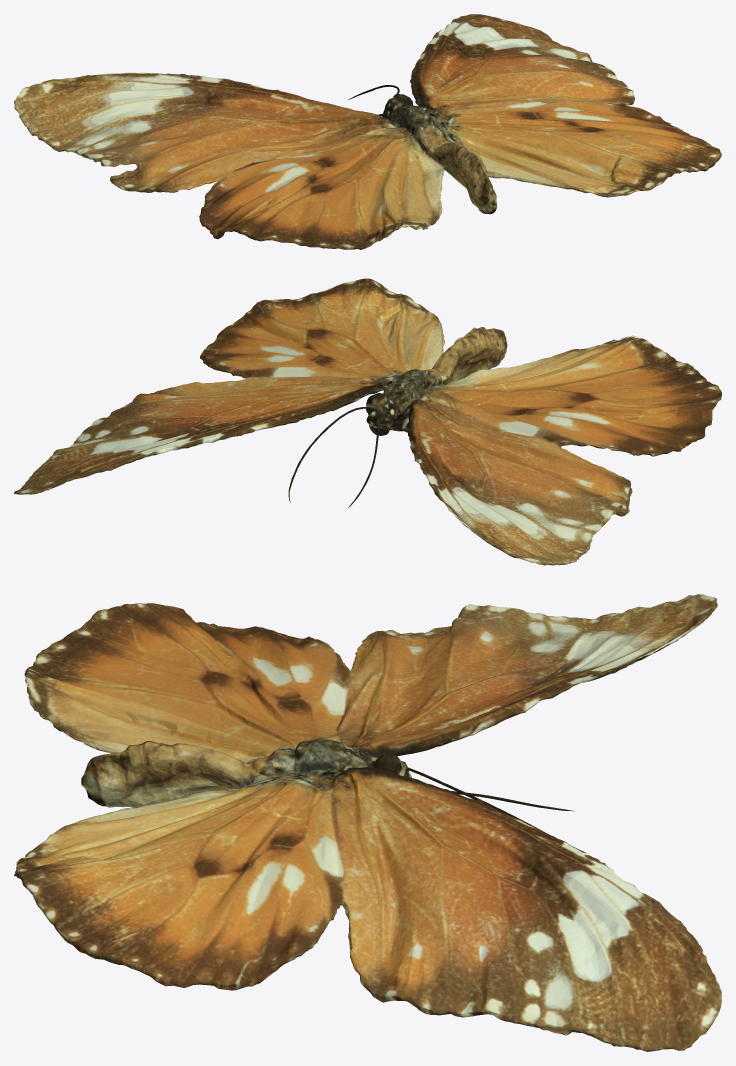
Rendered from Common_tiger_butterfly.glb.
3 views of the same model, one above another, from view 1: azimuth 30°, elevation 25°; view 2: azimuth 150°, elevation 25°; view 3: azimuth 270°, elevation 25° (orthographic). The views are drawn at different scales.
Parts seen in each view (by area): view 1: Group1002; view 2: Group1002; view 3: Group1002.
Boxes of the visible parts, x1,y1,x2,y2 form: Group1002: [14, 14, 721, 249]; Group1002: [14, 278, 721, 565]; Group1002: [14, 594, 721, 1051].
Bounding box in the file's own units: 0.0543 × 0.00888 × 0.0438.
1 material, 1 textured.
